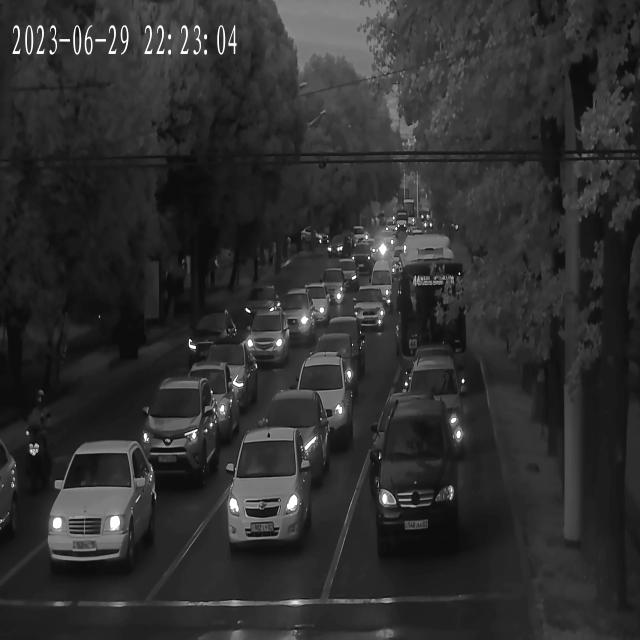Bus: (395, 229, 468, 398)
Car: (51, 440, 158, 571), (365, 400, 460, 540), (224, 430, 313, 551), (138, 379, 222, 479), (246, 395, 328, 486), (394, 371, 467, 466), (286, 357, 351, 449), (182, 344, 256, 412), (172, 362, 240, 417), (305, 334, 362, 384), (244, 313, 293, 366), (316, 320, 368, 366), (272, 291, 316, 339), (408, 343, 463, 381), (290, 284, 336, 326), (358, 270, 398, 313), (0, 435, 15, 545), (350, 286, 389, 328), (316, 270, 352, 304), (350, 304, 386, 331), (331, 260, 362, 290), (346, 244, 374, 269), (325, 240, 343, 258)
Motorcycle: (16, 385, 54, 483)
